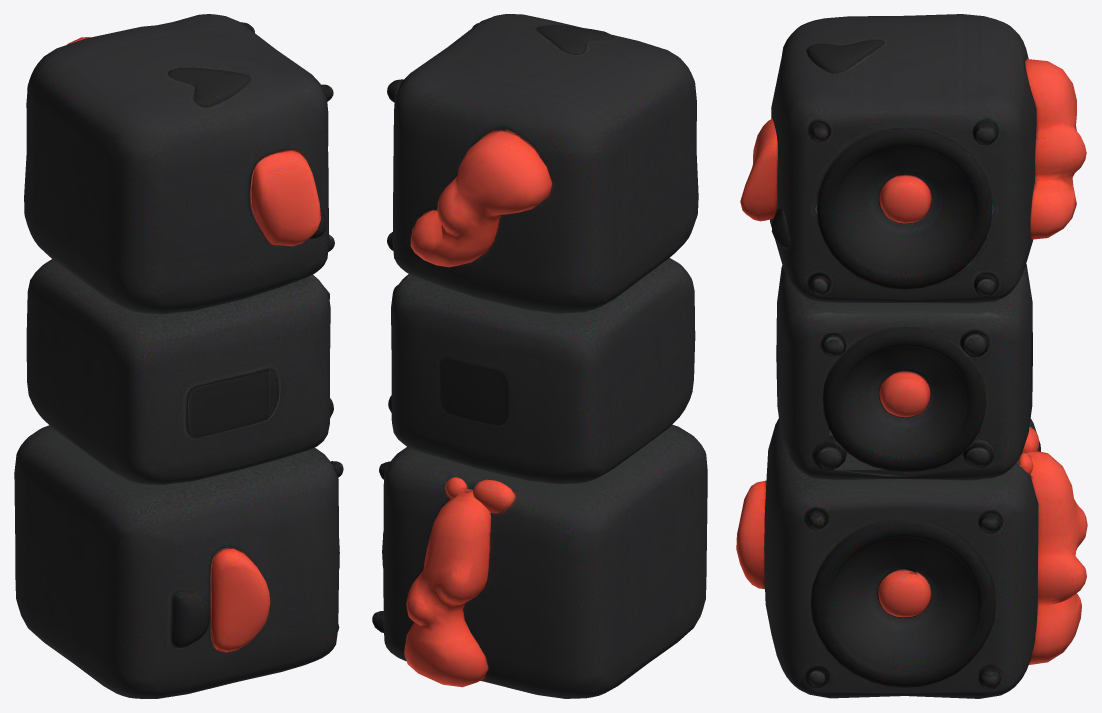
The model's file is env_nest_speaker_01.glb.
3 renders of one model, left to right at view 1: azimuth 30°, elevation 25°; view 2: azimuth 150°, elevation 25°; view 3: azimuth 270°, elevation 25°, orthographic.
Visible parts, largest first — view 1: env_nest_speaker_01; view 2: env_nest_speaker_01; view 3: env_nest_speaker_01.
Part boxes in pixels (bbox=[...]): env_nest_speaker_01: bbox=[14, 14, 343, 698]; env_nest_speaker_01: bbox=[372, 14, 707, 698]; env_nest_speaker_01: bbox=[736, 14, 1087, 698].
Size of the model in its own units: 0.6824 by 1.6 by 0.8434.
1 material, 1 textured.
